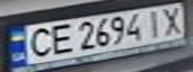2: (72, 18, 96, 52)
4: (124, 11, 148, 43)
6: (93, 16, 115, 48)
9: (109, 13, 130, 46)
C: (21, 25, 57, 58)
E: (45, 21, 75, 56)
I: (142, 7, 169, 38)
X: (157, 3, 187, 37)
